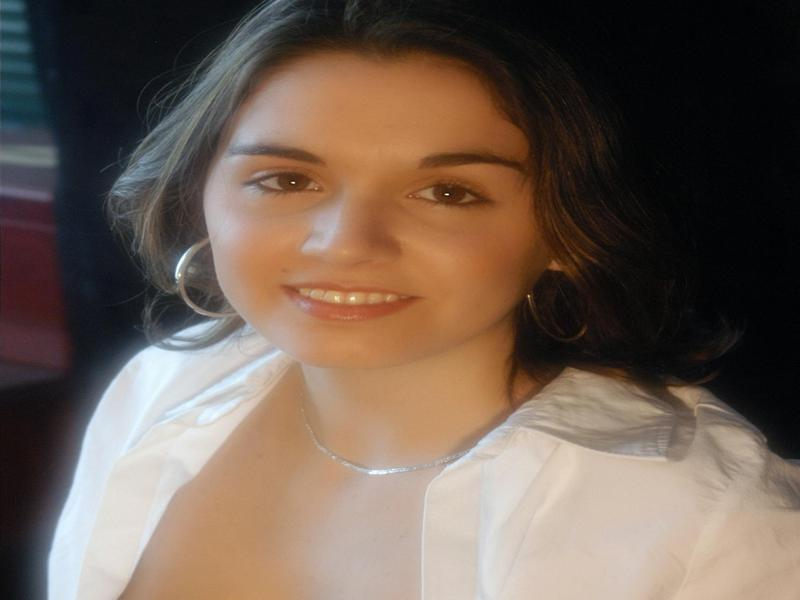person: (41, 1, 800, 599)
